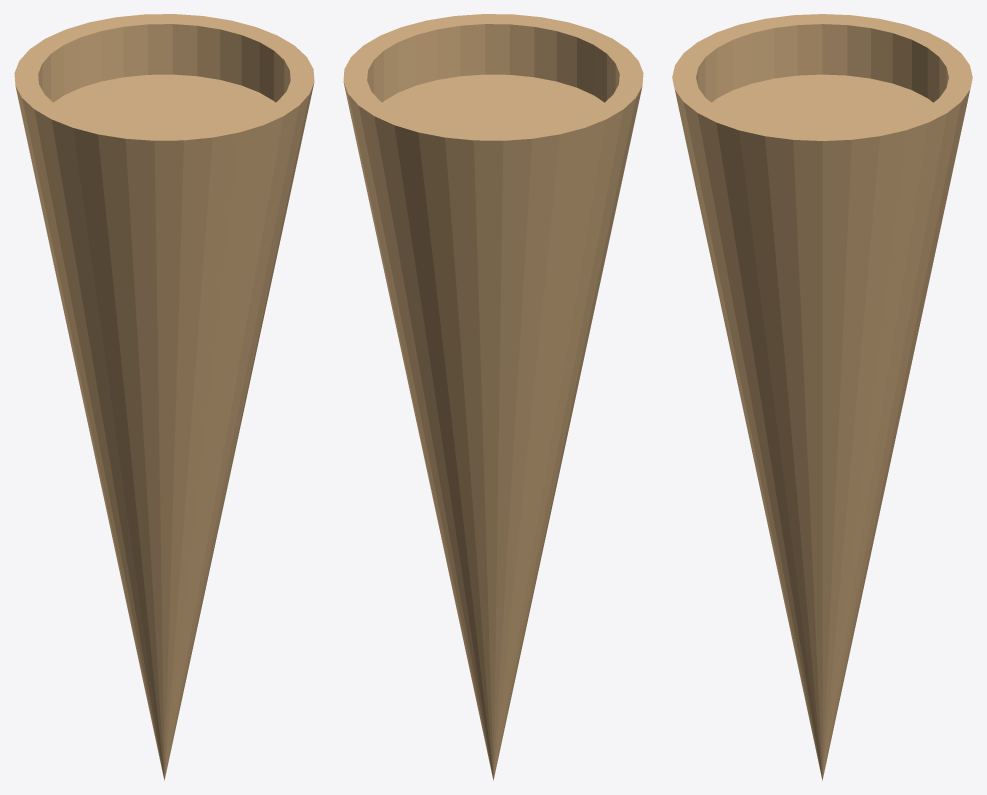
The model's file is torch.fbx.
3 views of the same model, side by side, from view 1: azimuth 30°, elevation 25°; view 2: azimuth 150°, elevation 25°; view 3: azimuth 270°, elevation 25° (orthographic).
Parts seen in each view (by area): view 1: Cone; view 2: Cone; view 3: Cone.
Boxes of the visible parts, x1=… form: Cone: x1=14, y1=14, x2=314, y2=780; Cone: x1=343, y1=14, x2=643, y2=780; Cone: x1=672, y1=14, x2=972, y2=780.
Size of the model in its own units: 200 by 516 by 200.
